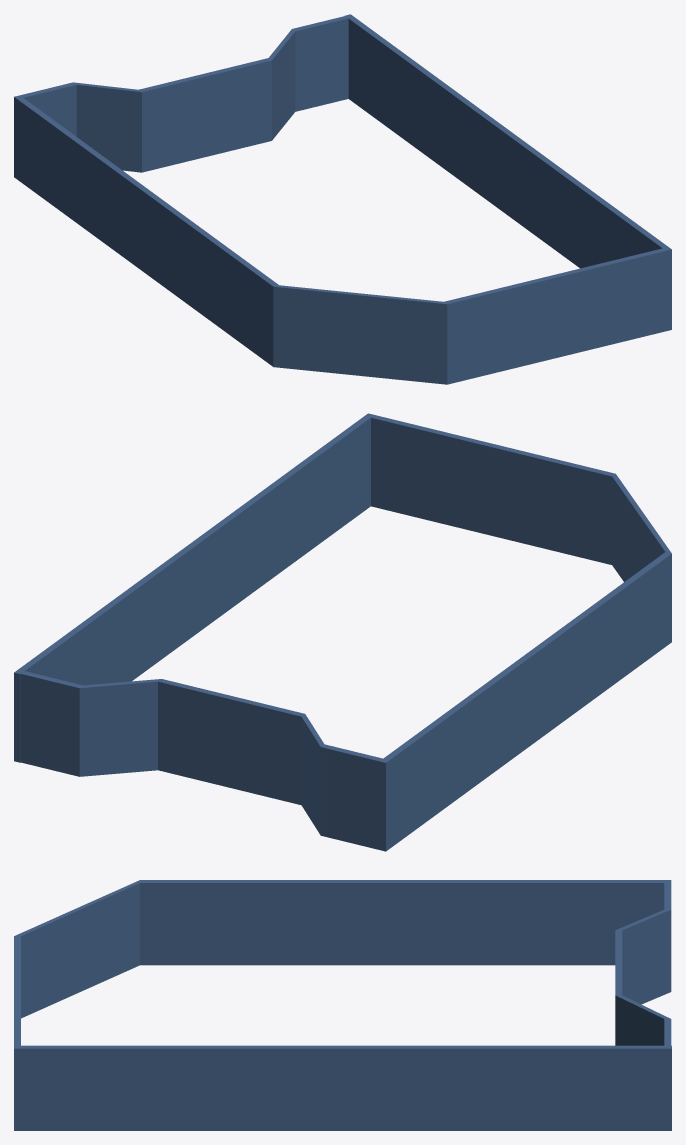
File: Structure_Wall_ThirdFloor_fbx_v01.fbx
The picture shows the model from 3 angles, top to bottom: view 1: azimuth 30°, elevation 25°; view 2: azimuth 150°, elevation 25°; view 3: azimuth 270°, elevation 25°; orthographic projection. The views are drawn at different scales.
Parts seen in each view (by area): view 1: Wall_ThirdFloor; view 2: Wall_ThirdFloor; view 3: Wall_ThirdFloor.
Boxes of the visible parts, left/top/right/bottom form: Wall_ThirdFloor: left=14, top=14, right=671, bottom=384; Wall_ThirdFloor: left=14, top=413, right=671, bottom=851; Wall_ThirdFloor: left=14, top=880, right=671, bottom=1130.
Bounding box in the file's own units: 2850 × 650 × 4706.
